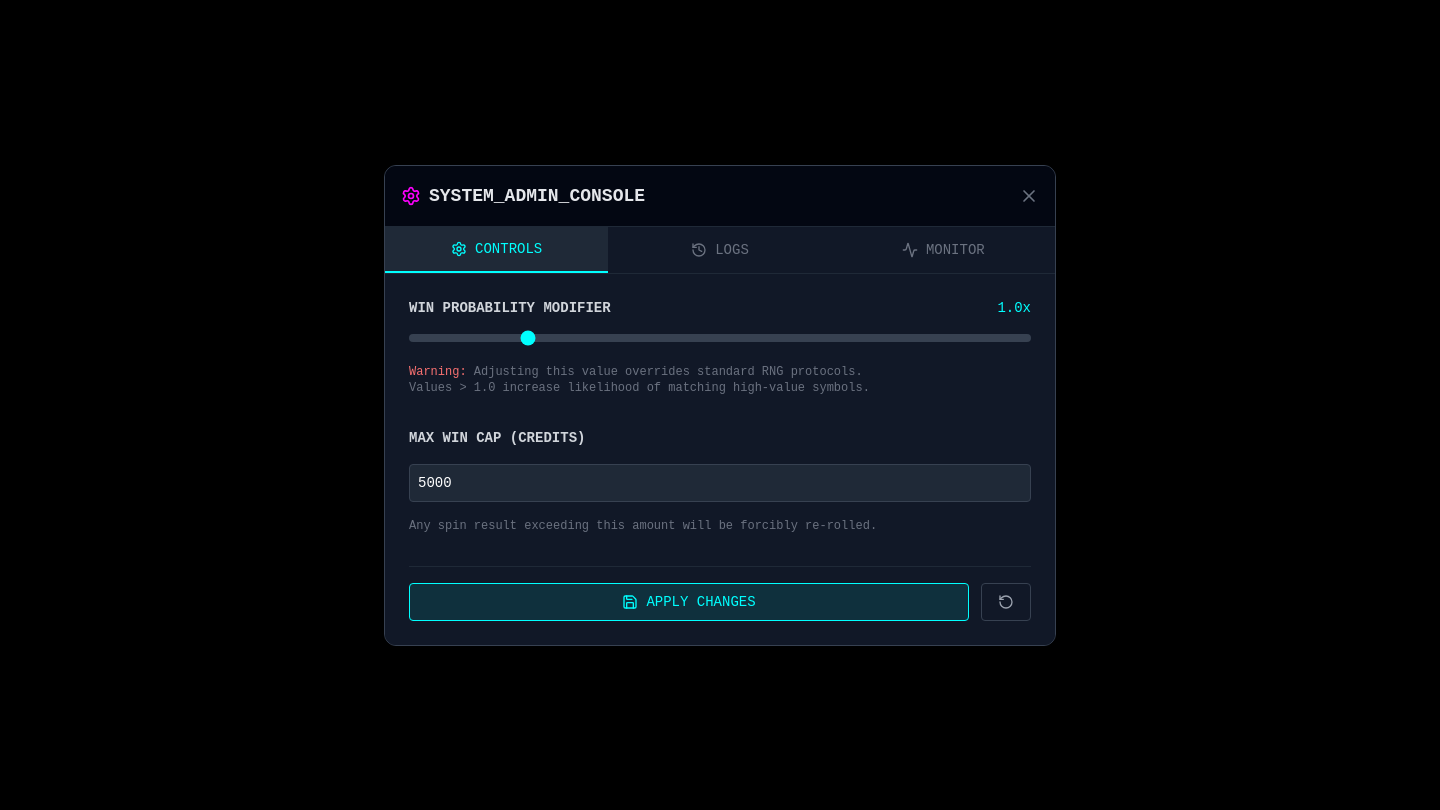
Test: AdminPanel › returns to panel when canceling exit
The image size is (1440, 810).
// Make a change
Replace the text in the number field showing "5000" with "9999" at (720, 482), box [409, 464, 1031, 502]
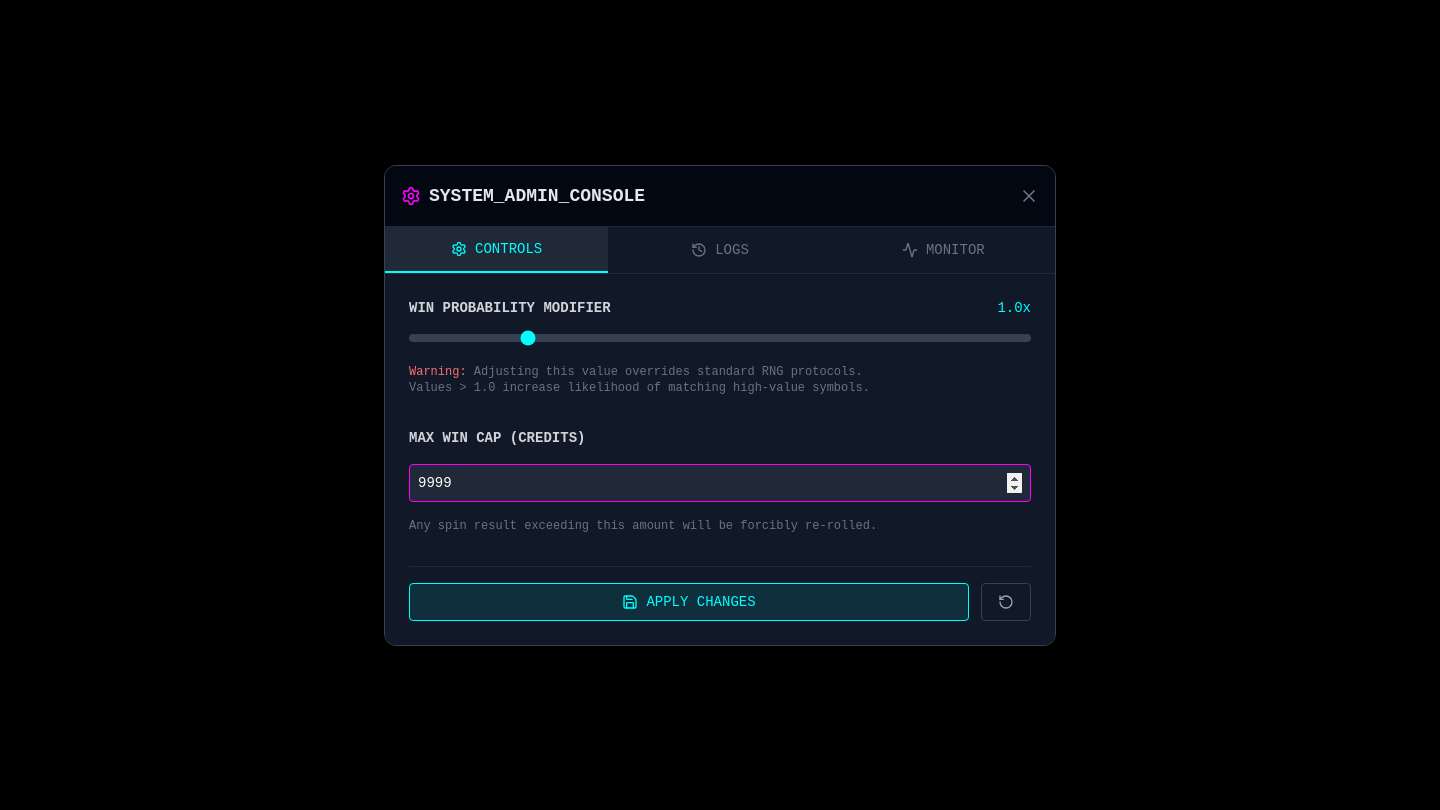
// Try to close
Click the 1st button at (1029, 196), box [1019, 186, 1039, 206]
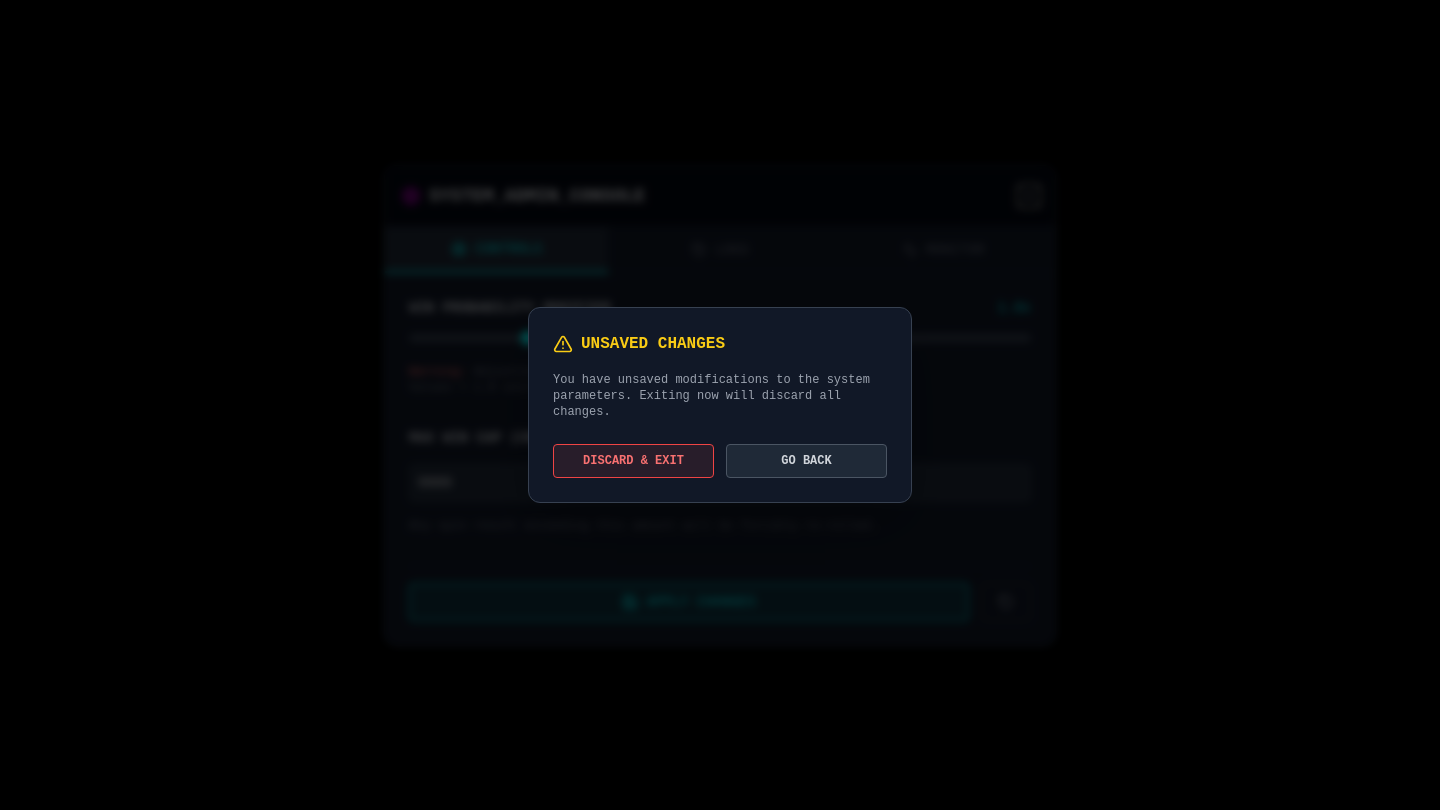
// Cancel exit
Click the button "Go Back" at (806, 461), box [726, 444, 887, 478]
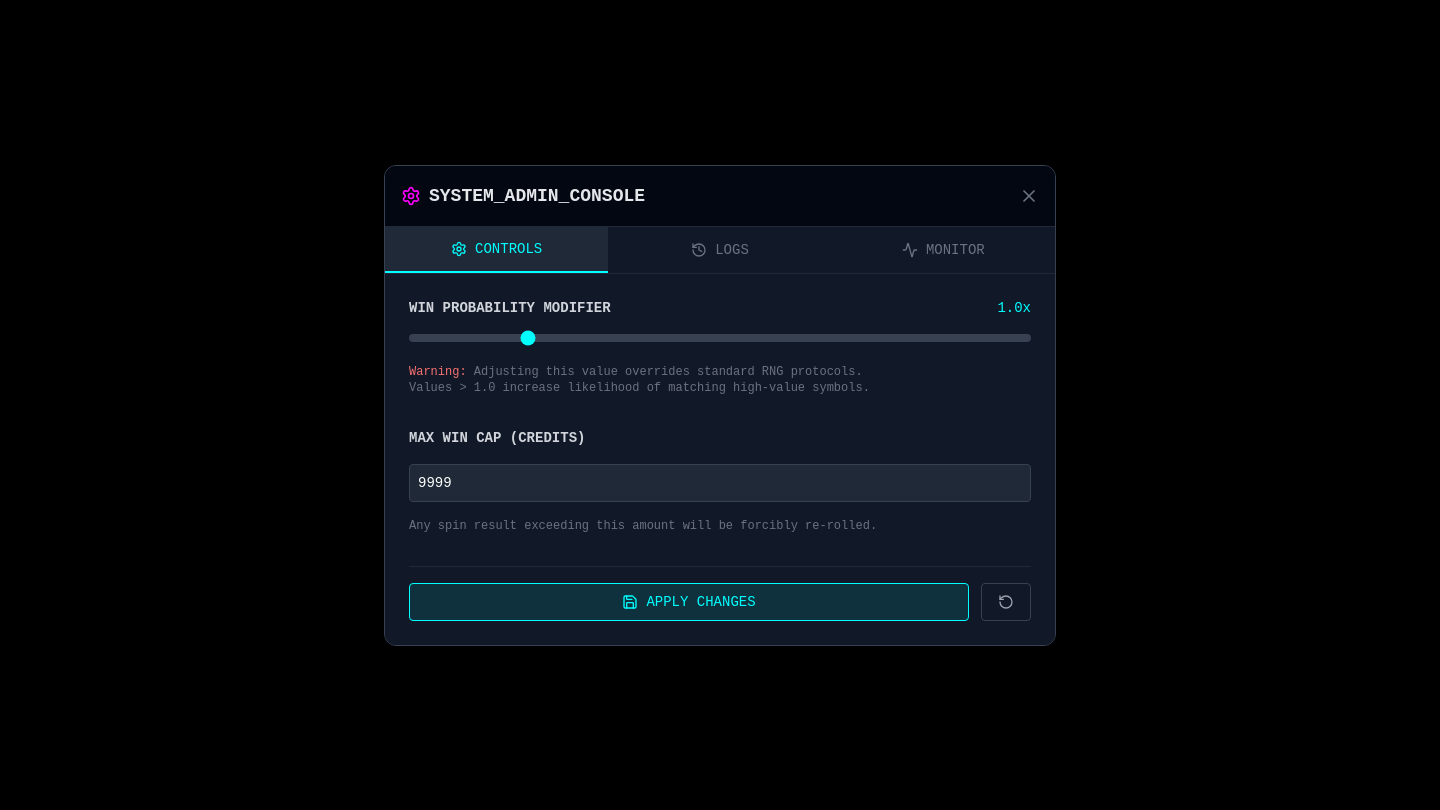
expect the heading "SYSTEM_ADMIN_CONSOLE" is shown: met, box [401, 182, 645, 210]
expect the heading "Unsaved Changes" is gone: met
